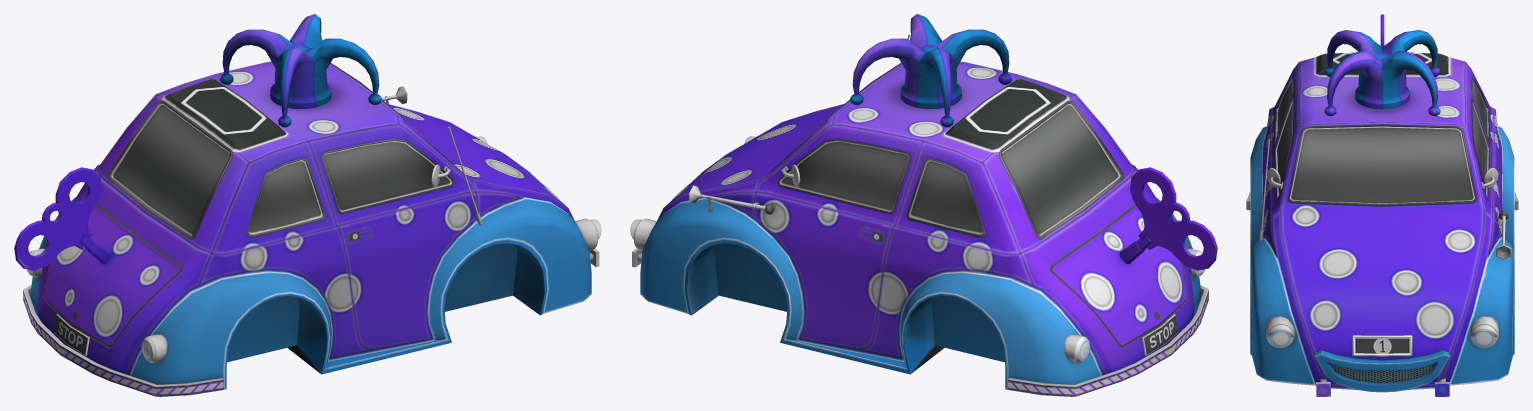
File: f1_car_clown_04.dae
The picture shows the model from 3 angles, left to right: view 1: azimuth 30°, elevation 25°; view 2: azimuth 150°, elevation 25°; view 3: azimuth 270°, elevation 25°; orthographic projection. The views are drawn at different scales.
Visible parts, largest first — view 1: car_body; view 2: car_body; view 3: car_body.
Boxes of the visible parts, x1,y1,x2,y2 form: car_body: (14, 14, 601, 396); car_body: (630, 14, 1217, 396); car_body: (1246, 14, 1518, 396).
Bounding box in the file's own units: 0.4024 × 0.1936 × 0.1918.
Materials: 1 (1 with a texture image).
